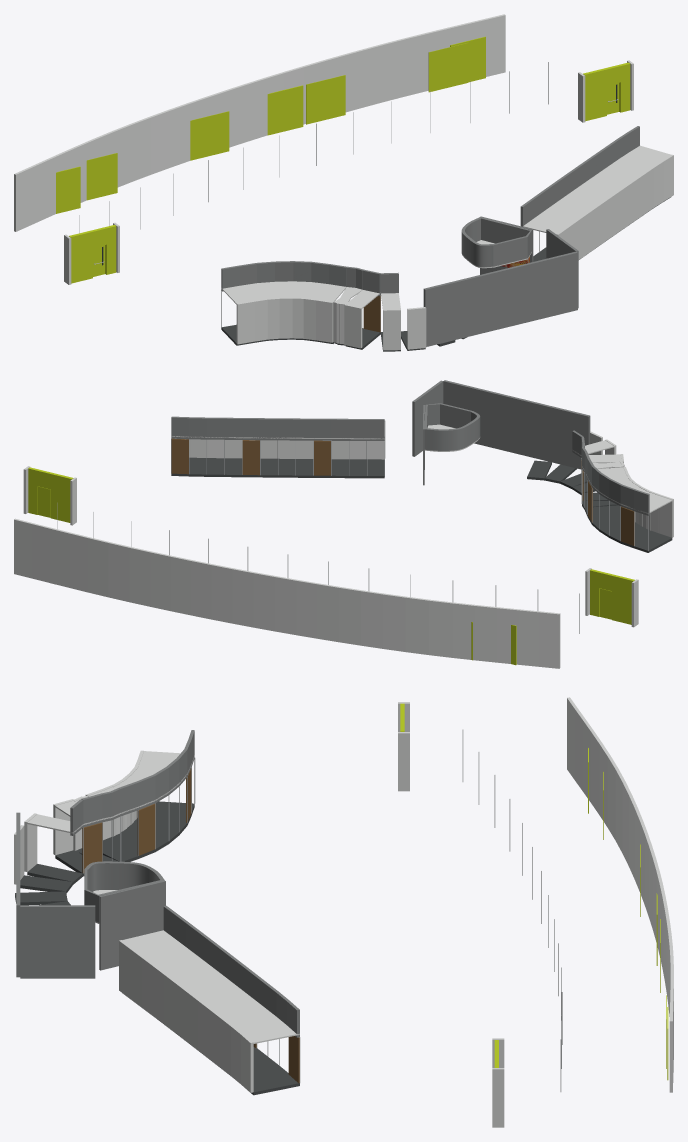
File: SM_L6_Rooms_Solid_24b84148dc_0.fbx
The picture shows the model from 3 angles, top to bottom: view 1: azimuth 30°, elevation 25°; view 2: azimuth 150°, elevation 25°; view 3: azimuth 270°, elevation 25°; orthographic projection. The views are drawn at different scales.
Parts seen in each view (by area): view 1: SM_L6_Rooms_Solid_24b84148dc_0; view 2: SM_L6_Rooms_Solid_24b84148dc_0; view 3: SM_L6_Rooms_Solid_24b84148dc_0.
Part boxes in pixels (bbox=[...]): SM_L6_Rooms_Solid_24b84148dc_0: bbox=[14, 14, 673, 351]; SM_L6_Rooms_Solid_24b84148dc_0: bbox=[14, 380, 673, 668]; SM_L6_Rooms_Solid_24b84148dc_0: bbox=[14, 697, 673, 1127].
Size of the model in its own units: 47.42 by 36 by 4.6.
